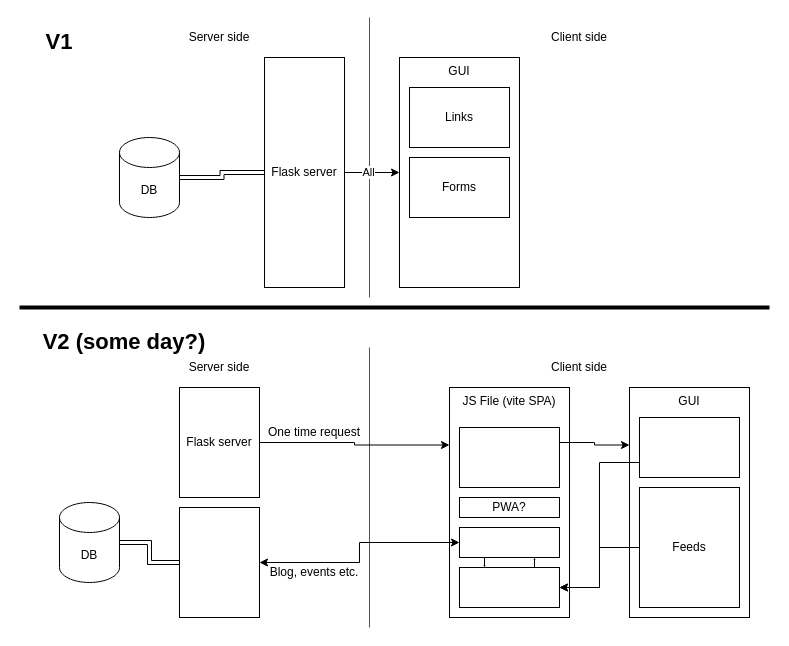
The diagram is 789 pixels wide and 646 high, and some of its shapes have lost their labels. Here are the shapes that lost their labels. From the top down, the centre of each, then its label:
At pixel 509 457: "Html render".
At pixel 689 447: "Buttons".
At pixel 219 562: "Flask API".
At pixel 509 542: "Api requests".
At pixel 509 587: "Functions".
